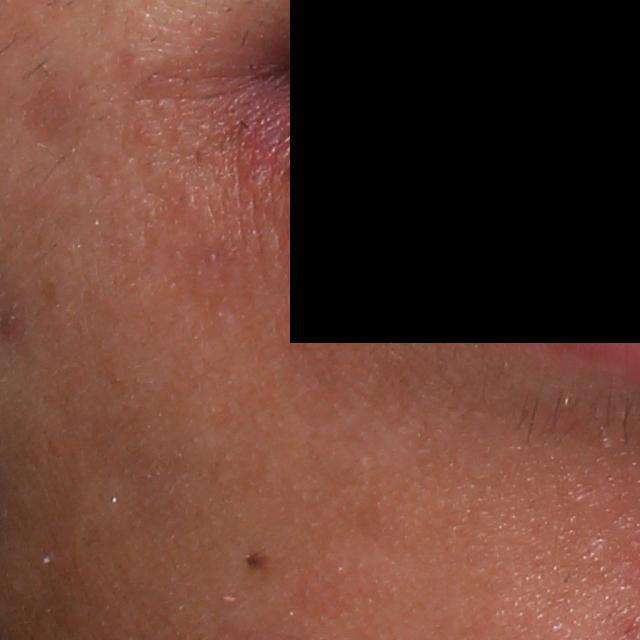nevus: (239, 545, 272, 572)
